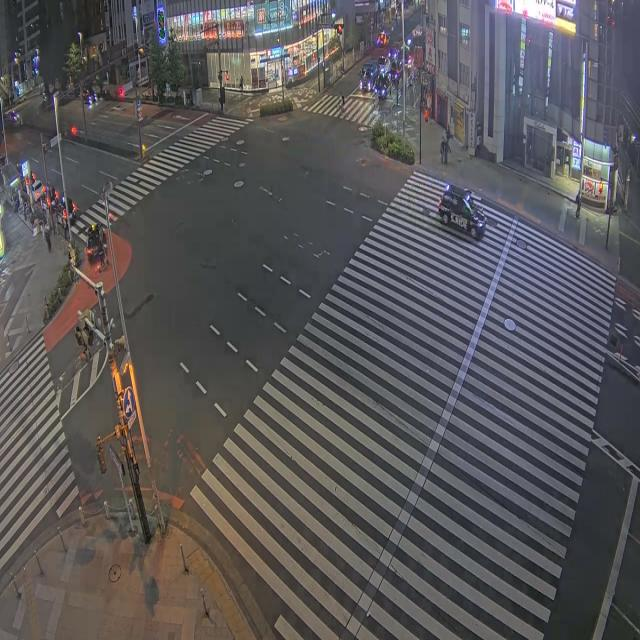car: (438, 184, 485, 239), (86, 224, 106, 263), (374, 73, 391, 99), (359, 67, 375, 92), (32, 180, 45, 201), (390, 58, 402, 80), (83, 88, 96, 105), (377, 31, 389, 47), (378, 56, 390, 72)
